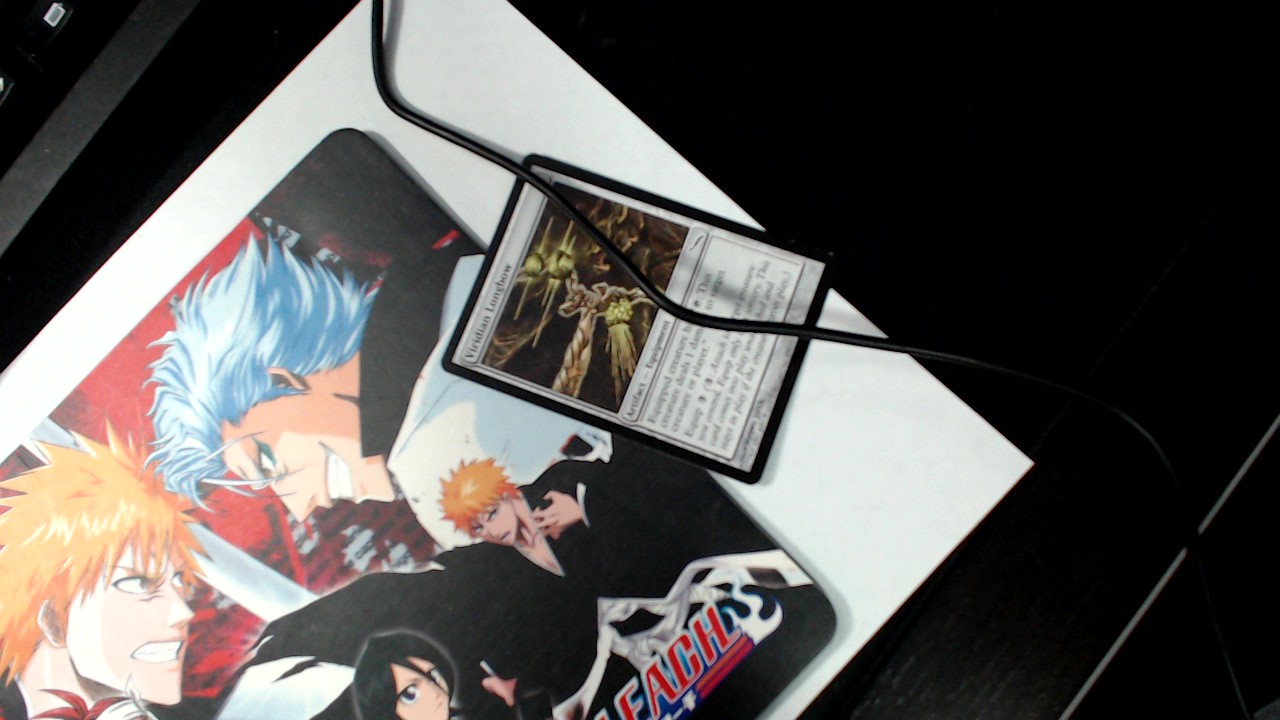MTG Card: (437, 146, 841, 489)
